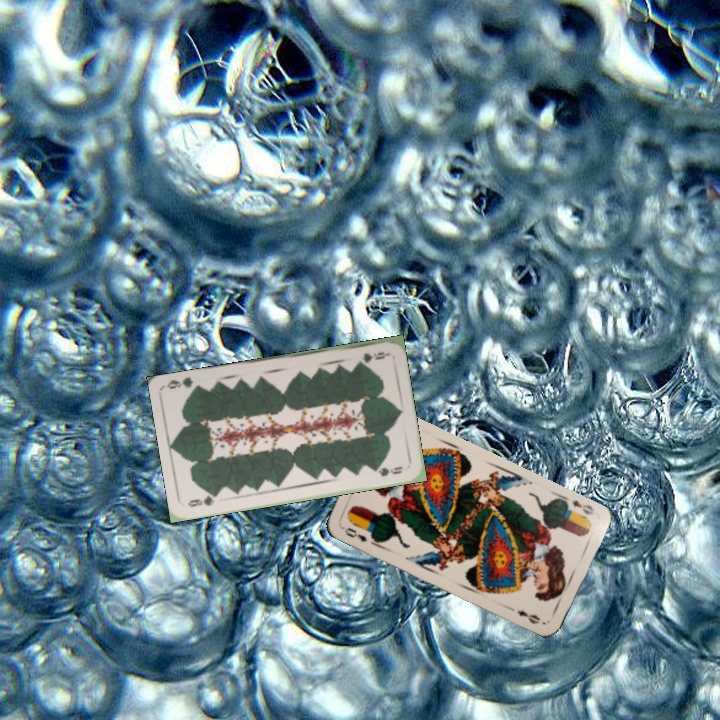EO: (560, 493, 597, 521), (340, 523, 370, 545)
G9: (184, 490, 222, 509), (353, 348, 390, 365)
